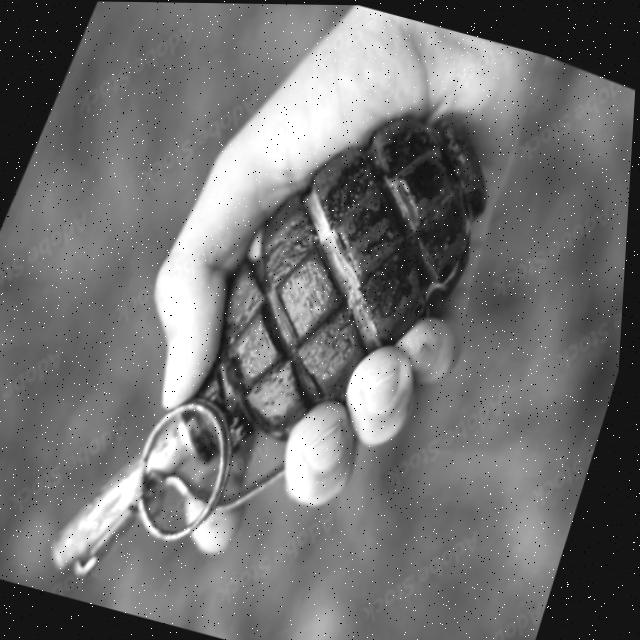grenade: (32, 26, 536, 640)
